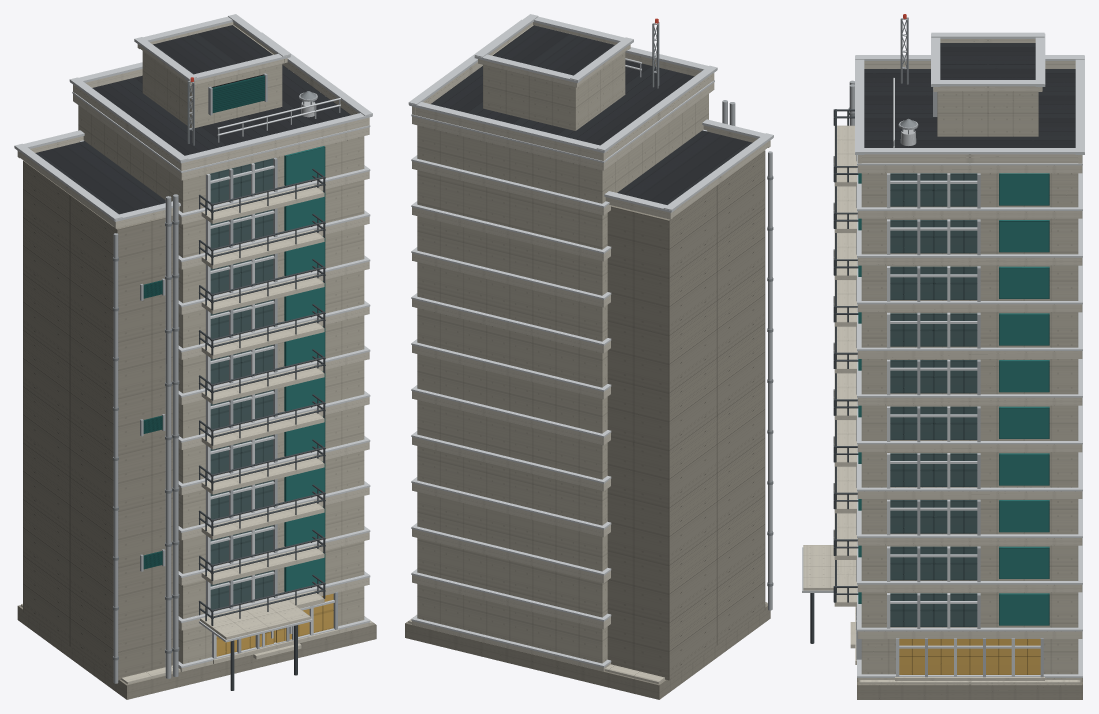
The model's file is civic-atomic-age-apartment-tower-built.glb.
3 renders of one model, left to right at view 1: azimuth 30°, elevation 25°; view 2: azimuth 150°, elevation 25°; view 3: azimuth 270°, elevation 25°, orthographic. The views are drawn at different scales.
Size of the model in its own units: 17.02 by 36.86 by 15.65.
Materials: 27 (19 with a texture image).
